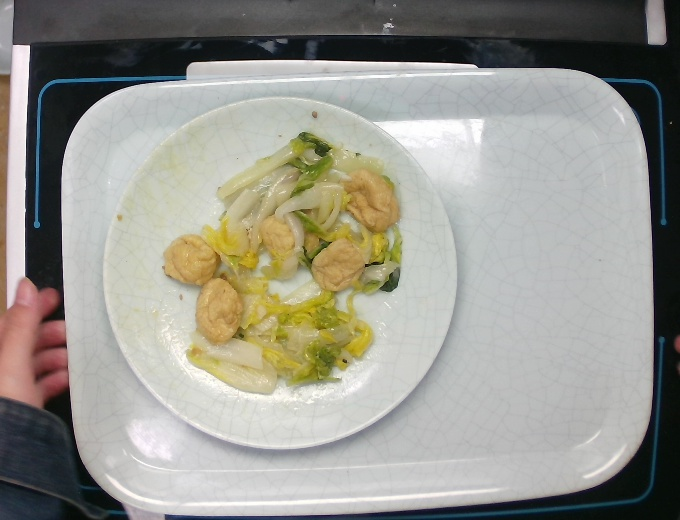JYsf-Da_Yuan_Pan: (96, 95, 466, 459)
